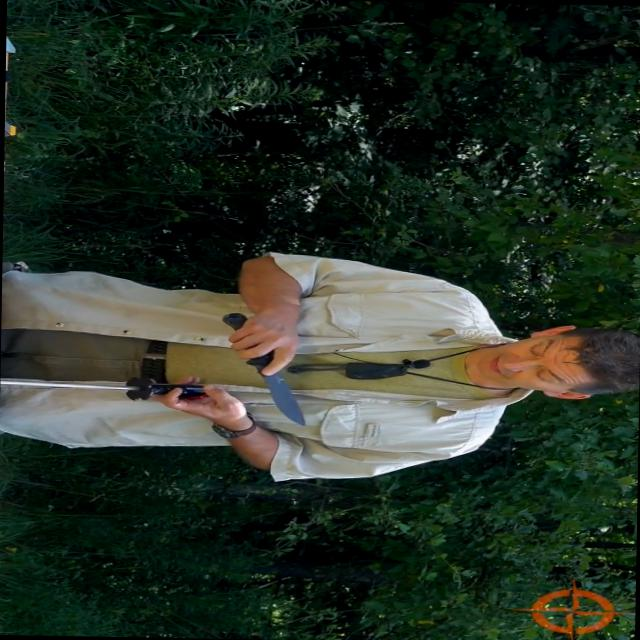knife: (217, 309, 313, 430)
